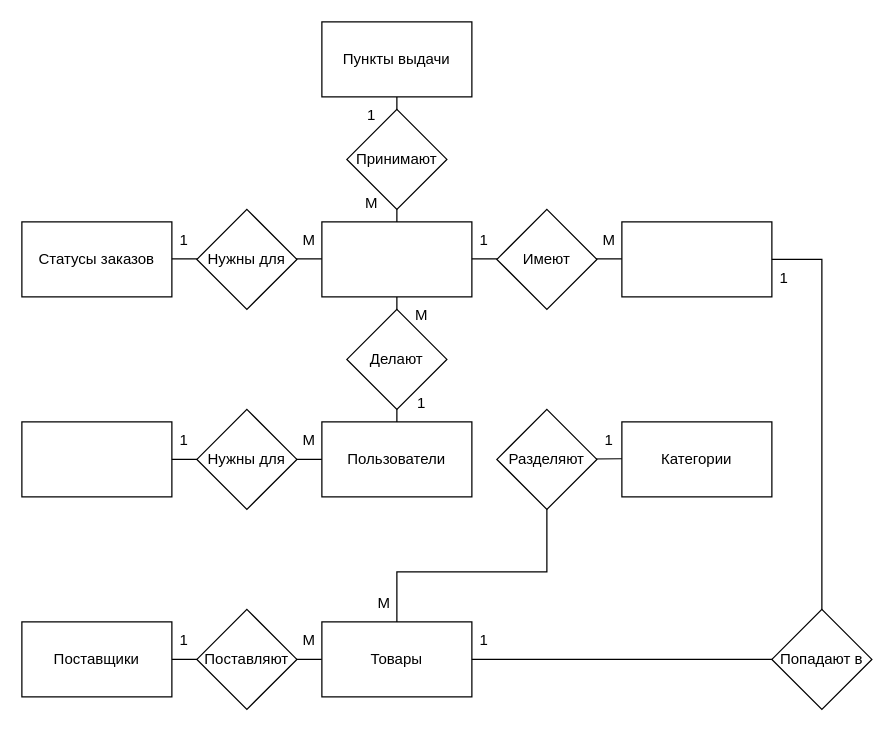
Image size: 894x731. Some labels were removed from this diagram. The shapes that lost their labels are listed below. From the top down, each one's centre as x and y in pixels, then its label:
At (396,259): "Заказы".
At (696,259): "Детали заказов".
At (96,459): "Роли".
